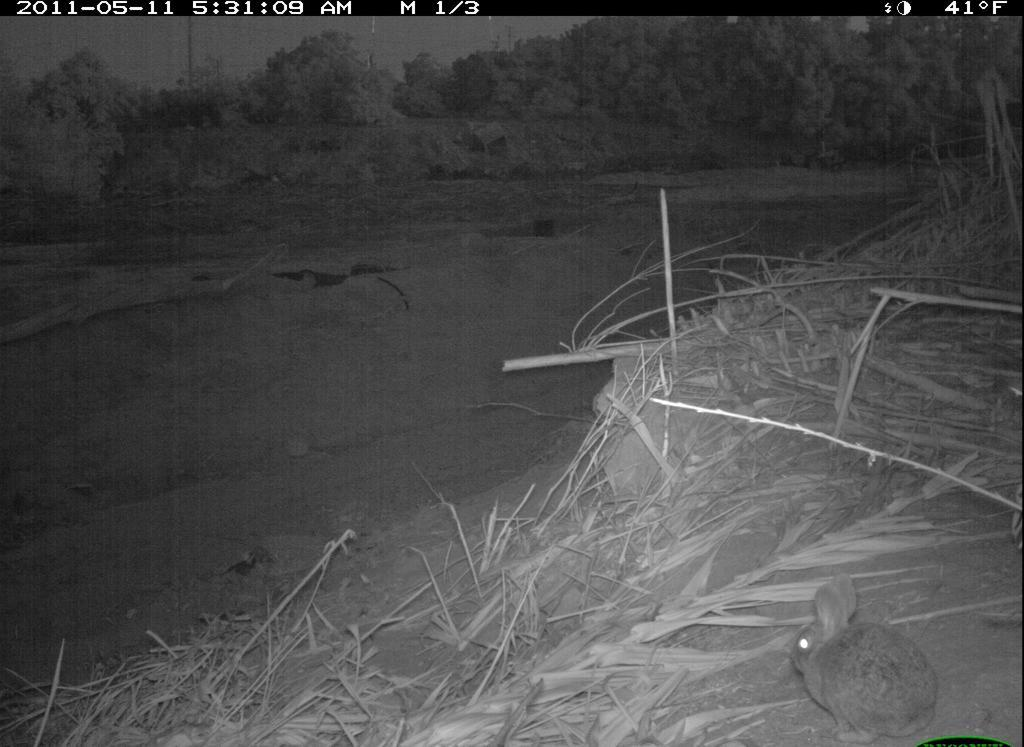rabbit: (785, 569, 944, 747)
